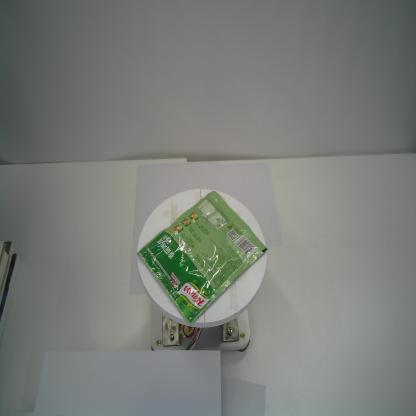Seasoner: (136, 190, 268, 326)
